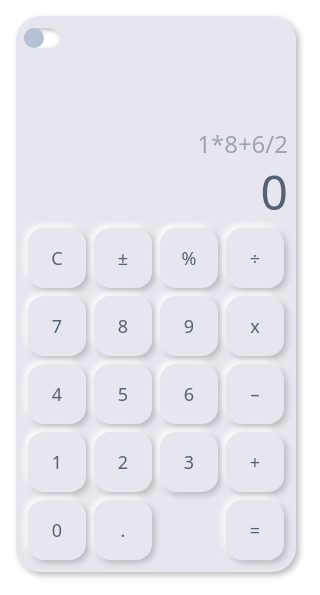
Test: проверить работу кнопок операций над числами и вывести результат
Click the button with test id "btn-num-result".
click(255, 530)  # box [226,500,284,560]
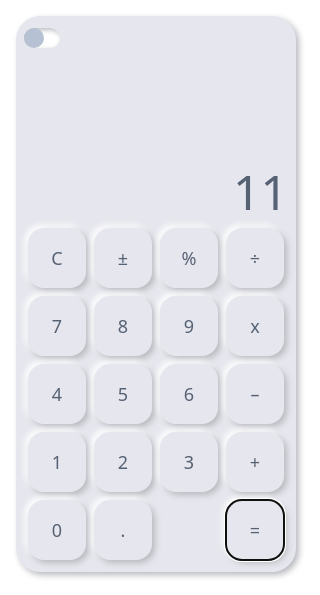
Check: the text with test id "display_value" reads "11", box [233,159,288,224]
